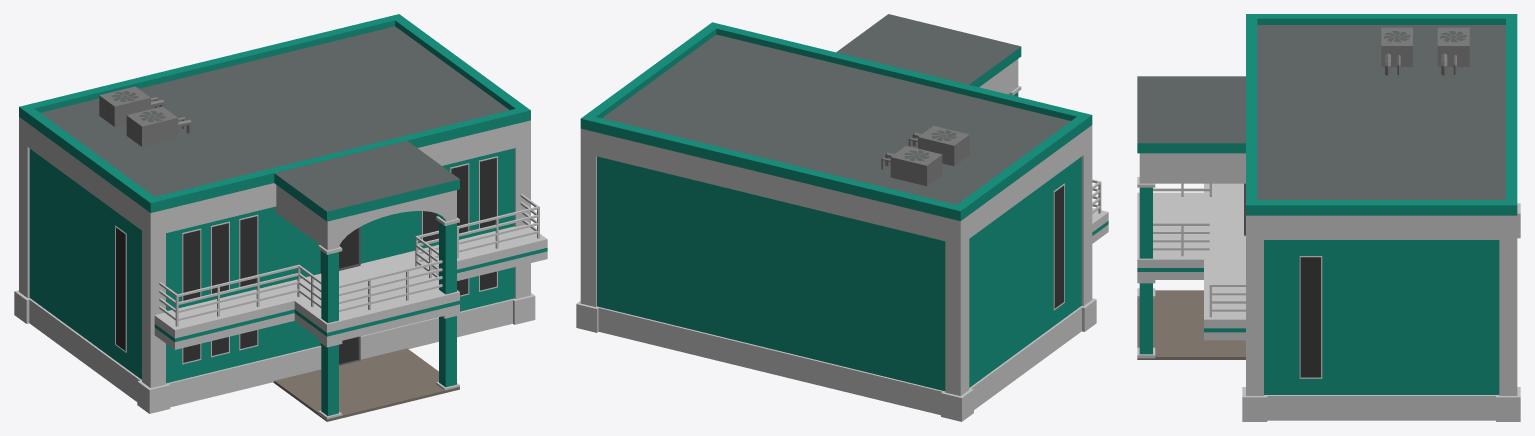
Rendered from building-house-03-color01.glb.
3 renders of one model, left to right at view 1: azimuth 30°, elevation 25°; view 2: azimuth 150°, elevation 25°; view 3: azimuth 270°, elevation 25°, orthographic. The views are drawn at different scales.
Visible parts, largest first — view 1: Building_House_03_color01; view 2: Building_House_03_color01; view 3: Building_House_03_color01.
Boxes of the visible parts, <box> form: Building_House_03_color01: <box>14,14,547,421</box>; Building_House_03_color01: <box>576,14,1108,421</box>; Building_House_03_color01: <box>1137,14,1520,421</box>.
Size of the model in its own units: 17.26 by 9.61 by 14.41.
1 material, 1 textured.
